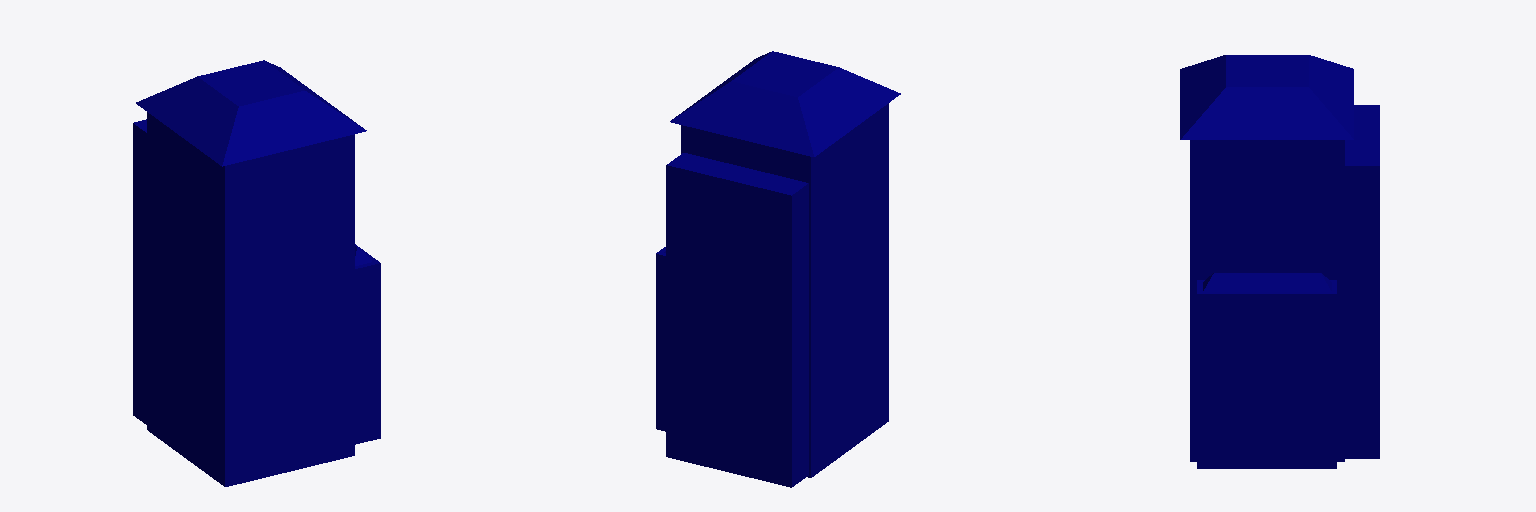
3 views of the same model, side by side, from view 1: azimuth 30°, elevation 25°; view 2: azimuth 150°, elevation 25°; view 3: azimuth 270°, elevation 25° (orthographic).
Parts seen in each view (by area): view 1: Edificio_Base_02; view 2: Edificio_Base_02; view 3: Edificio_Base_02.
Boxes of the visible parts, box(x1,y1,x2,y2) form: Edificio_Base_02: box(133, 60, 380, 486); Edificio_Base_02: box(656, 51, 900, 487); Edificio_Base_02: box(1180, 55, 1379, 468).
Size of the model in its own units: 73.37 by 151 by 75.6.